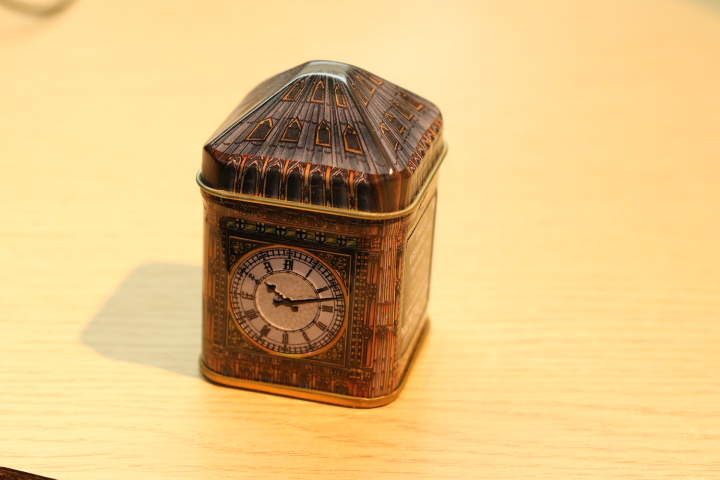Big Ben: (185, 43, 462, 429)
